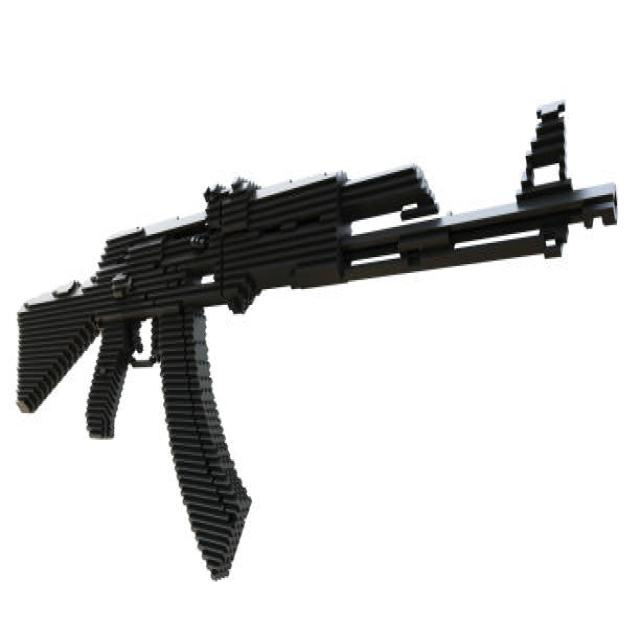rifle: (14, 93, 620, 594)
